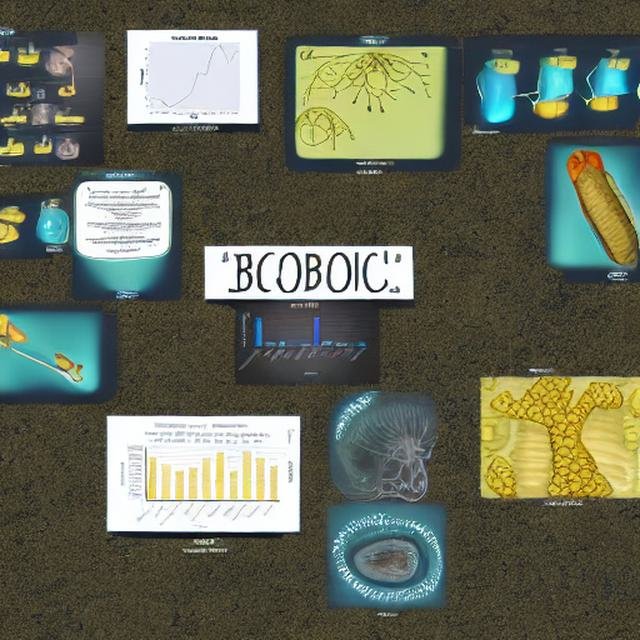Graph: (115, 429, 284, 530), (237, 299, 372, 380), (133, 31, 253, 121)
